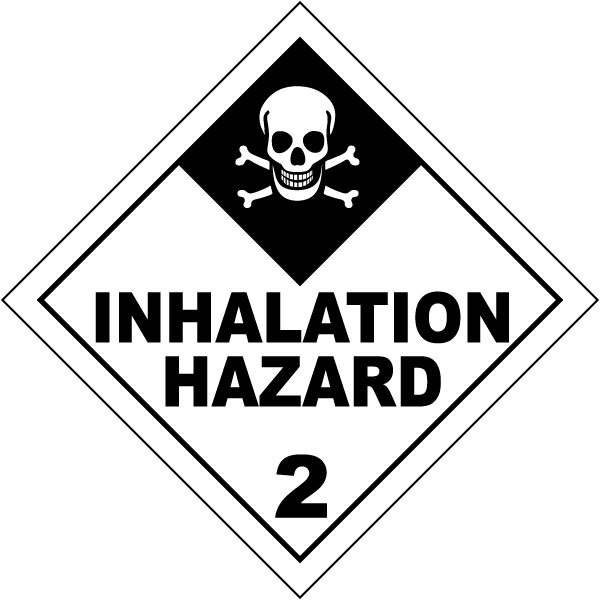InhalationHazard: (4, 4, 599, 600)
